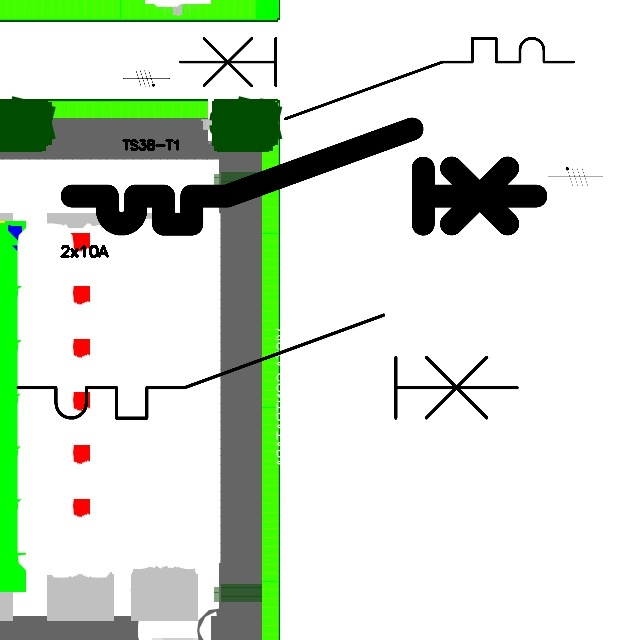interruptor_termomagnetico: (5, 302, 530, 431), (60, 117, 548, 236), (169, 28, 583, 129)
